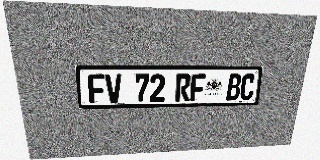2: (150, 74, 165, 102)
7: (134, 74, 149, 102)
B: (226, 74, 242, 100)
C: (239, 74, 256, 100)
F: (87, 74, 106, 103), (190, 74, 206, 101)
R: (175, 74, 191, 102)
V: (105, 74, 122, 103)
